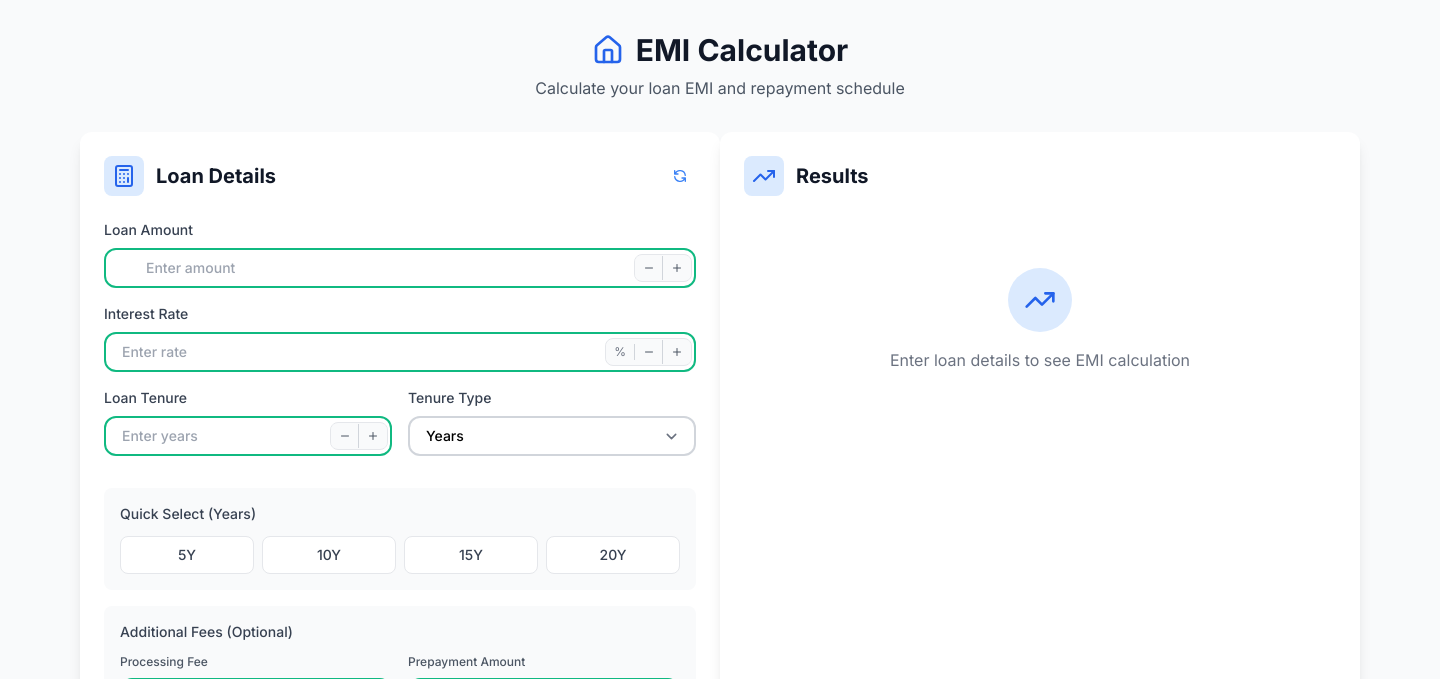
EMICalculator - Comprehensive Test Suite › 🔄 Reset Functionality › should reset all inputs when reset button is clicked
Fill inputs
Step 1. Type "500000" into the field with placeholder "Enter amount" below "Loan Amount" → (400, 268), box [104,248,696,288]
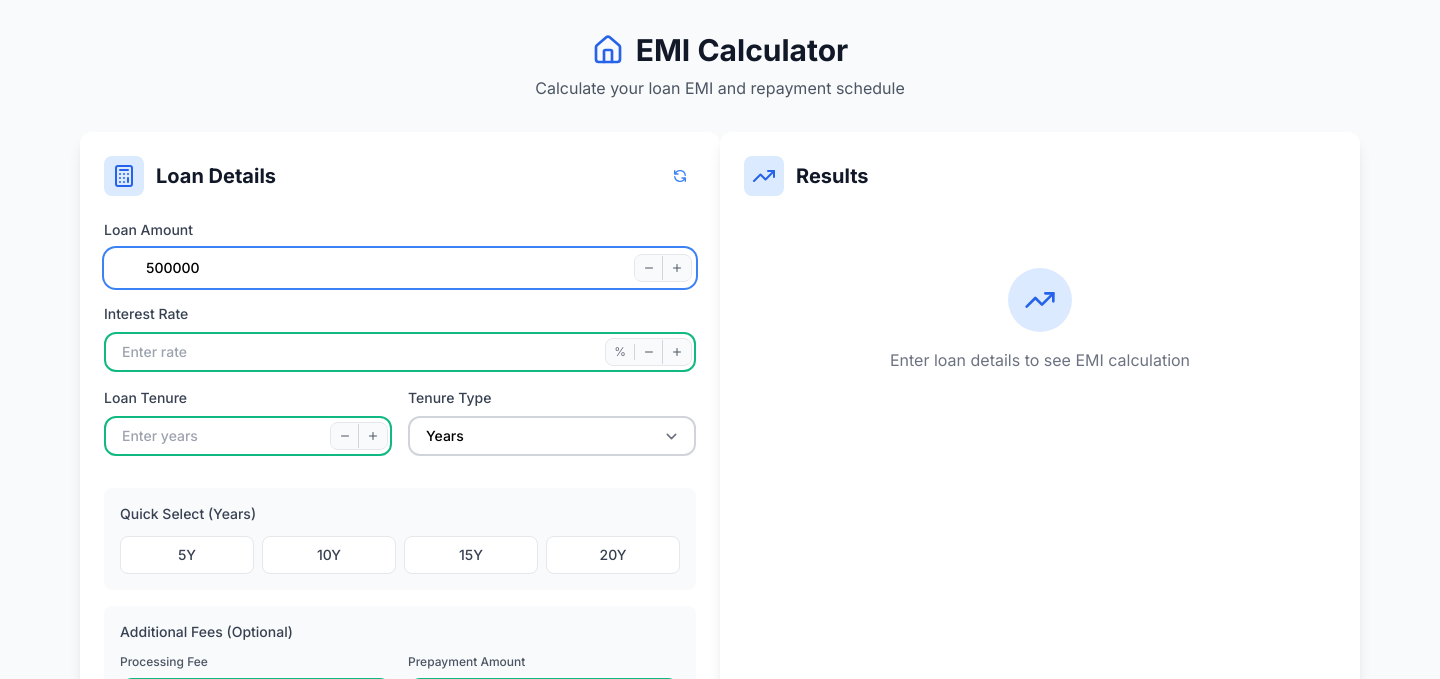
Step 2. Type "8.5" into the field with placeholder "Enter rate" → (400, 352), box [104,332,696,372]
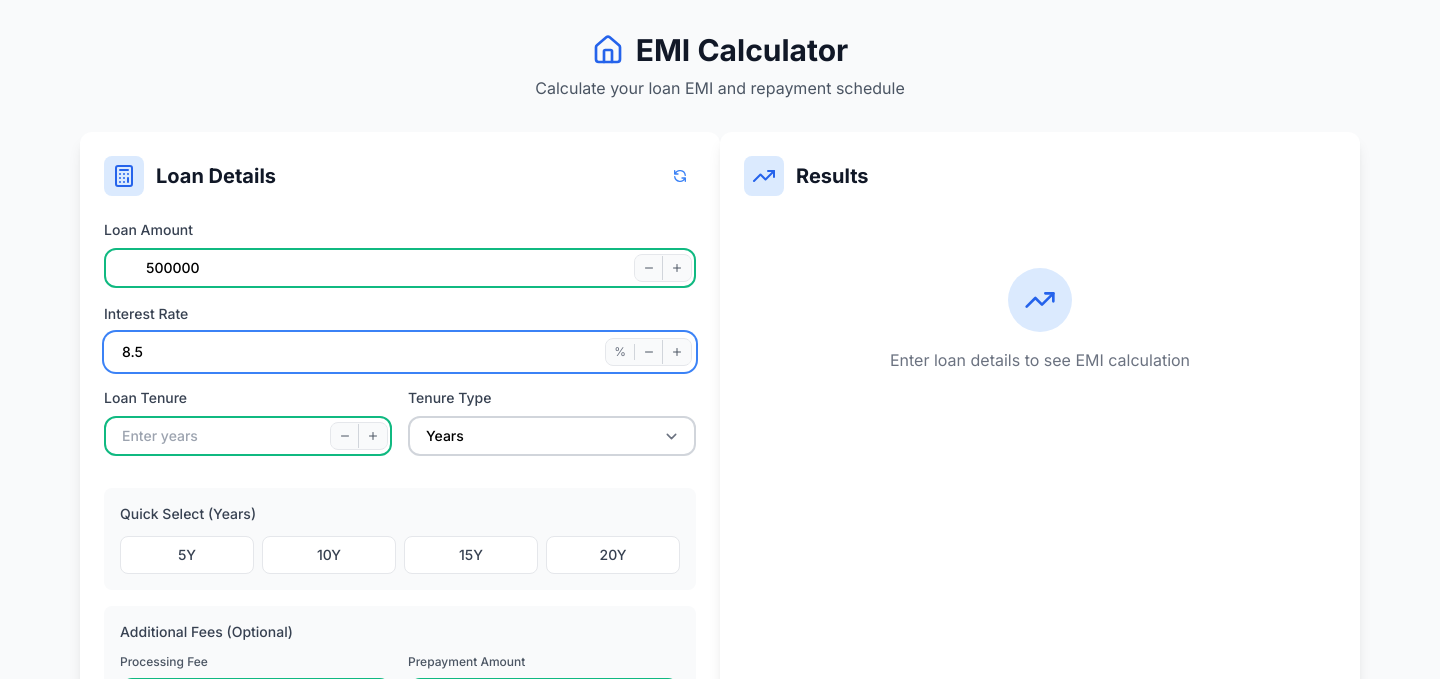
Step 3. Type "15" into the field with placeholder "Enter years" → (248, 436), box [104,416,392,456]
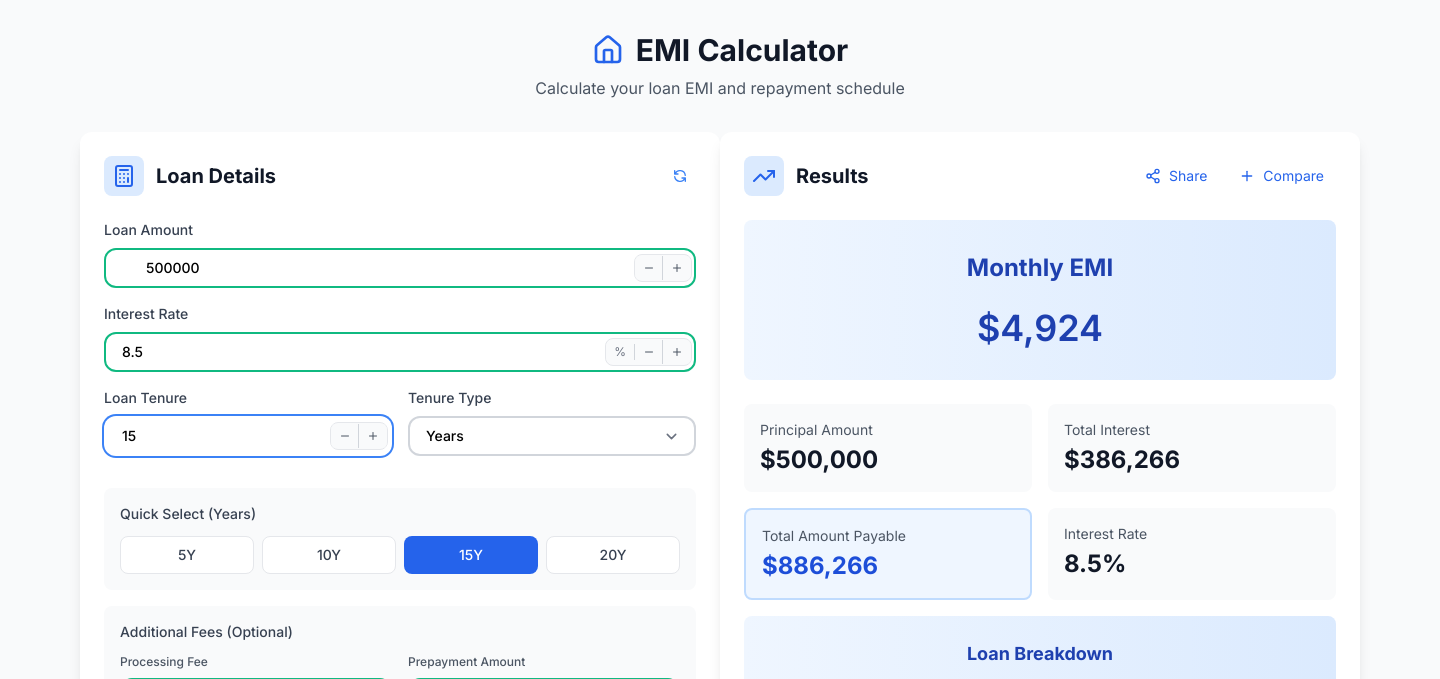
Click reset
Step 4. Click the button titled "reset calculator" → (680, 176), box [664,160,696,192]
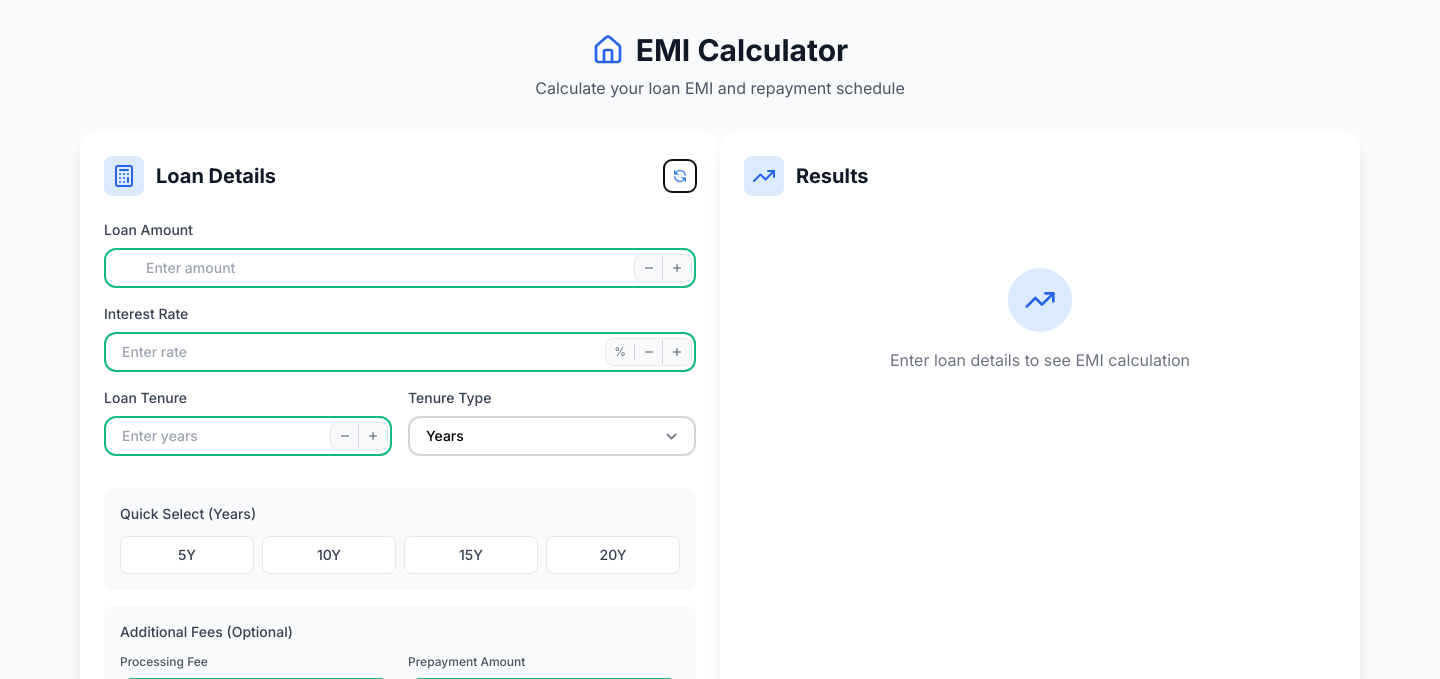
Expected: the field with placeholder "Enter amount" below "Loan Amount" is empty, [104,248,696,288]
Expected: the field with placeholder "Enter rate" is empty, [104,332,696,372]
Expected: the field with placeholder "Enter years" is empty, [104,416,392,456]
